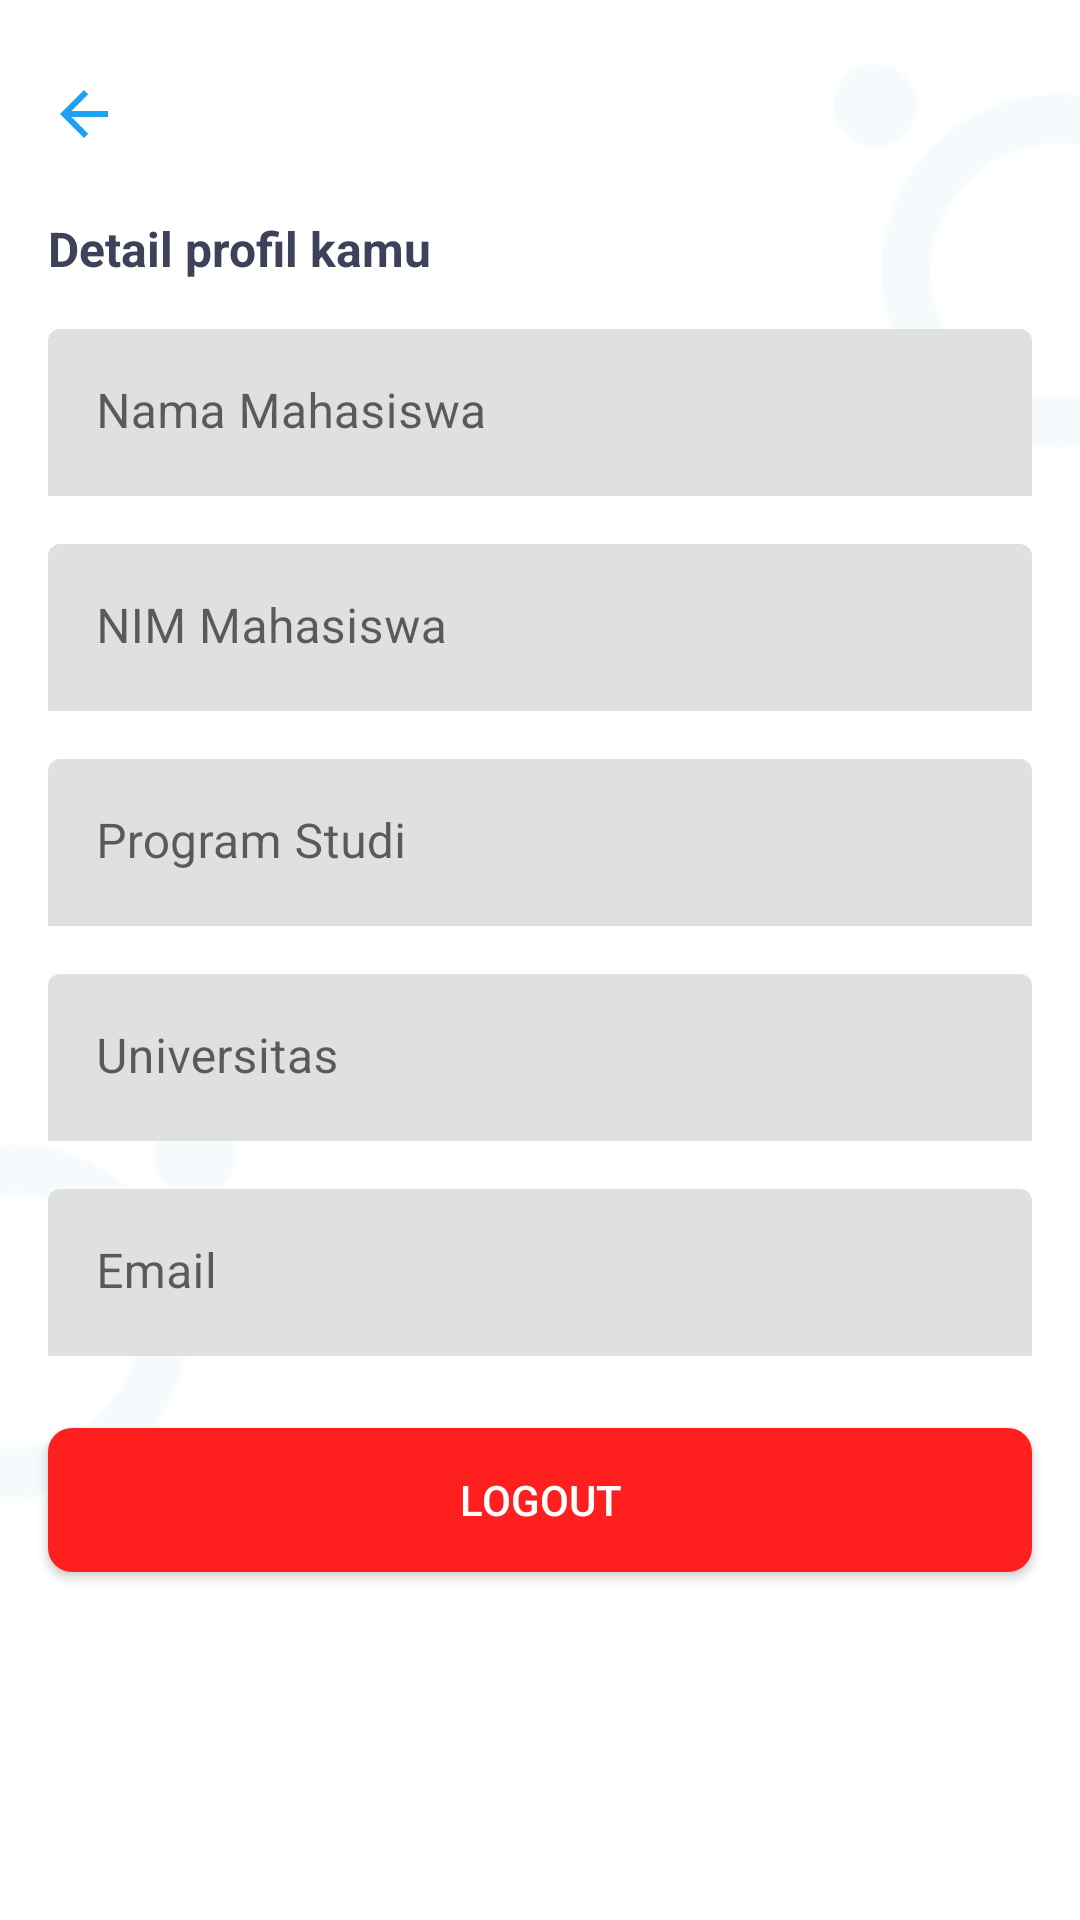

Icon click points for this 1080 x 1920 phone screenshot, format (x,y):
back: (84,114)
